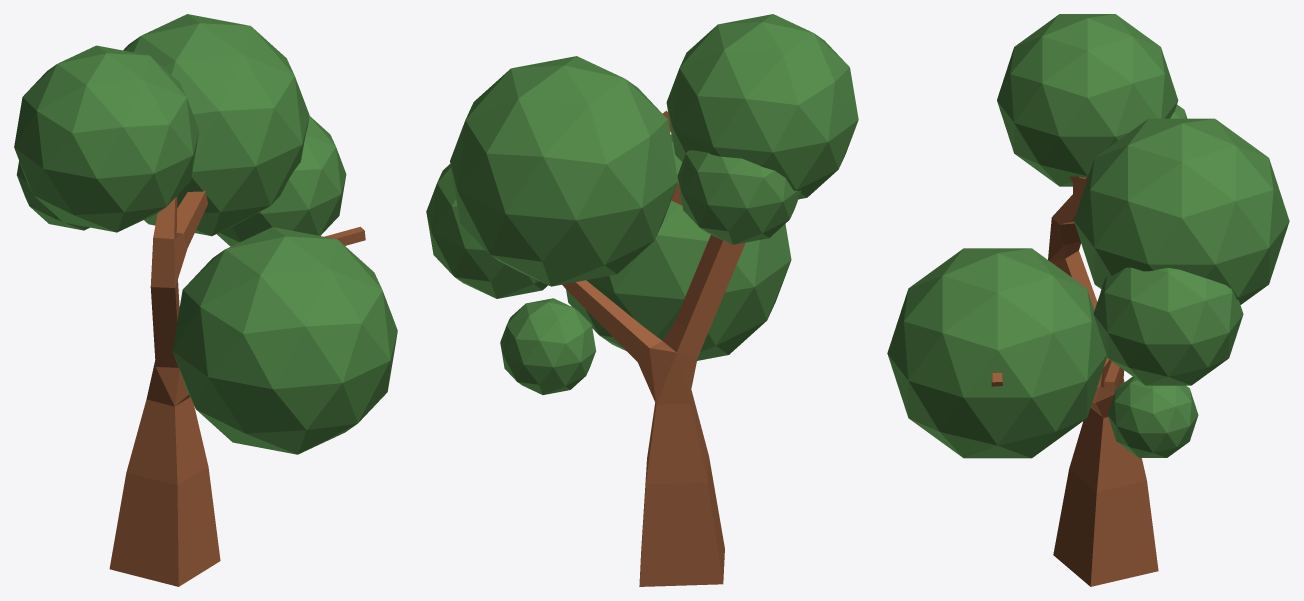
File: poly-tree.fbx
3 renders of one model, left to right at view 1: azimuth 30°, elevation 25°; view 2: azimuth 150°, elevation 25°; view 3: azimuth 270°, elevation 25°, orthographic. The views are drawn at different scales.
Parts seen in each view (by area): view 1: Icosphere.004, Icosphere.001, Icosphere.006, Cube, Icosphere, Icosphere.005; view 2: Icosphere.006, Icosphere.001, Cube, Icosphere.004, Icosphere.005, Icosphere.002, Icosphere; view 3: Icosphere.004, Icosphere.006, Icosphere.001, Cube, Icosphere, Icosphere.002.
Part boxes in pixels (x1,y1,x2,y2): Icosphere.004: [172, 227, 397, 454]; Icosphere.001: [14, 45, 199, 232]; Icosphere.006: [123, 14, 309, 236]; Cube: [109, 191, 365, 586]; Icosphere: [217, 116, 346, 246]; Icosphere.005: [16, 161, 89, 230]; Icosphere.006: [450, 56, 678, 286]; Icosphere.001: [666, 14, 858, 199]; Cube: [562, 110, 744, 586]; Icosphere.004: [566, 134, 791, 360]; Icosphere.005: [677, 150, 801, 244]; Icosphere.002: [500, 298, 595, 394]; Icosphere: [426, 164, 547, 298]; Icosphere.004: [887, 248, 1106, 458]; Icosphere.006: [1074, 118, 1289, 304]; Icosphere.001: [997, 14, 1178, 186]; Cube: [991, 173, 1158, 586]; Icosphere: [1093, 267, 1243, 385]; Icosphere.002: [1108, 376, 1198, 457].
Size of the model in its own units: 16.62 by 24.54 by 17.37.
